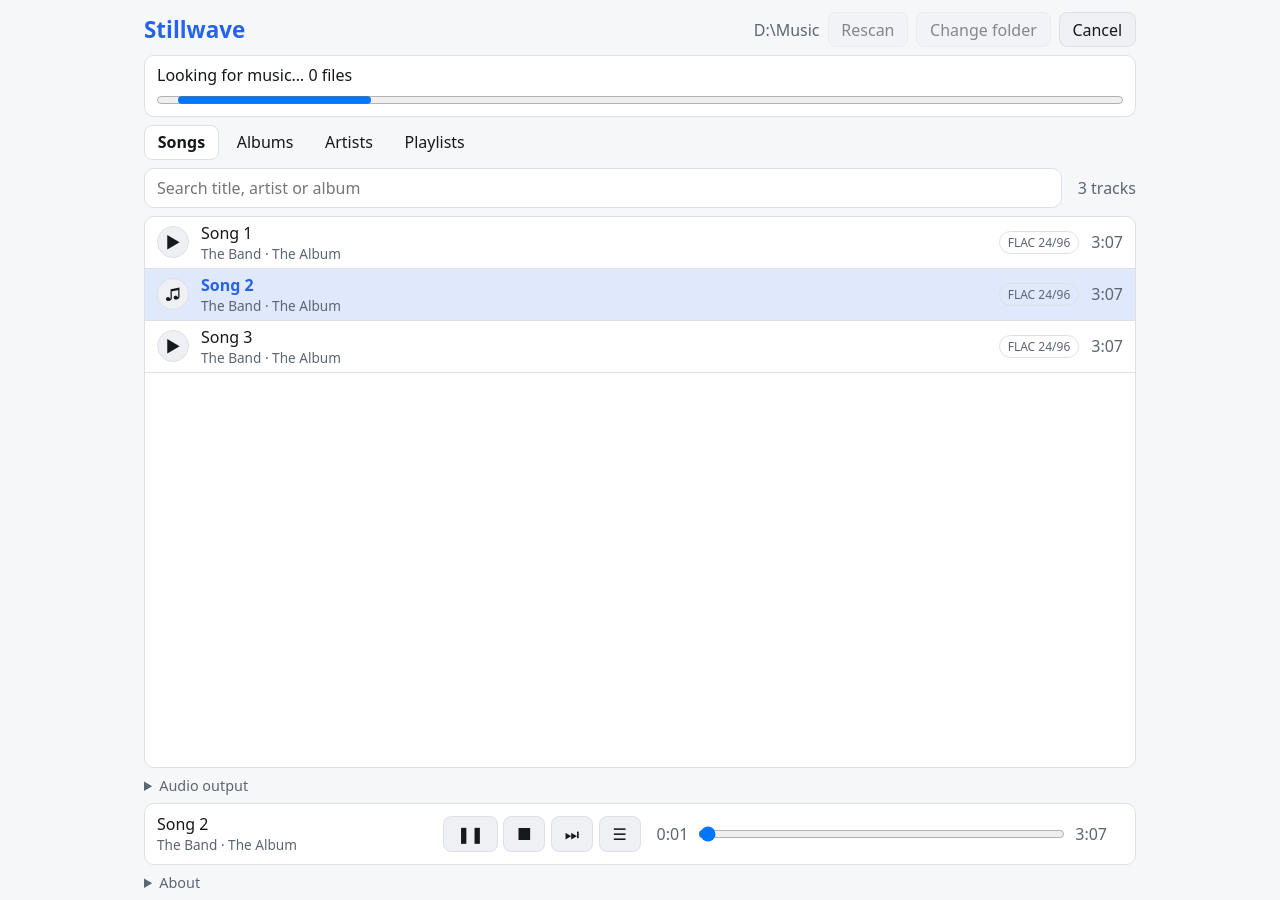
Test: browsing › highlights the song being heard in the list and on its album
Expected: the button named "Play Song 2" reads "♫", 157,278 -> 189,310
Click the tab "Albums" at (265, 142), box 223,125 -> 307,160
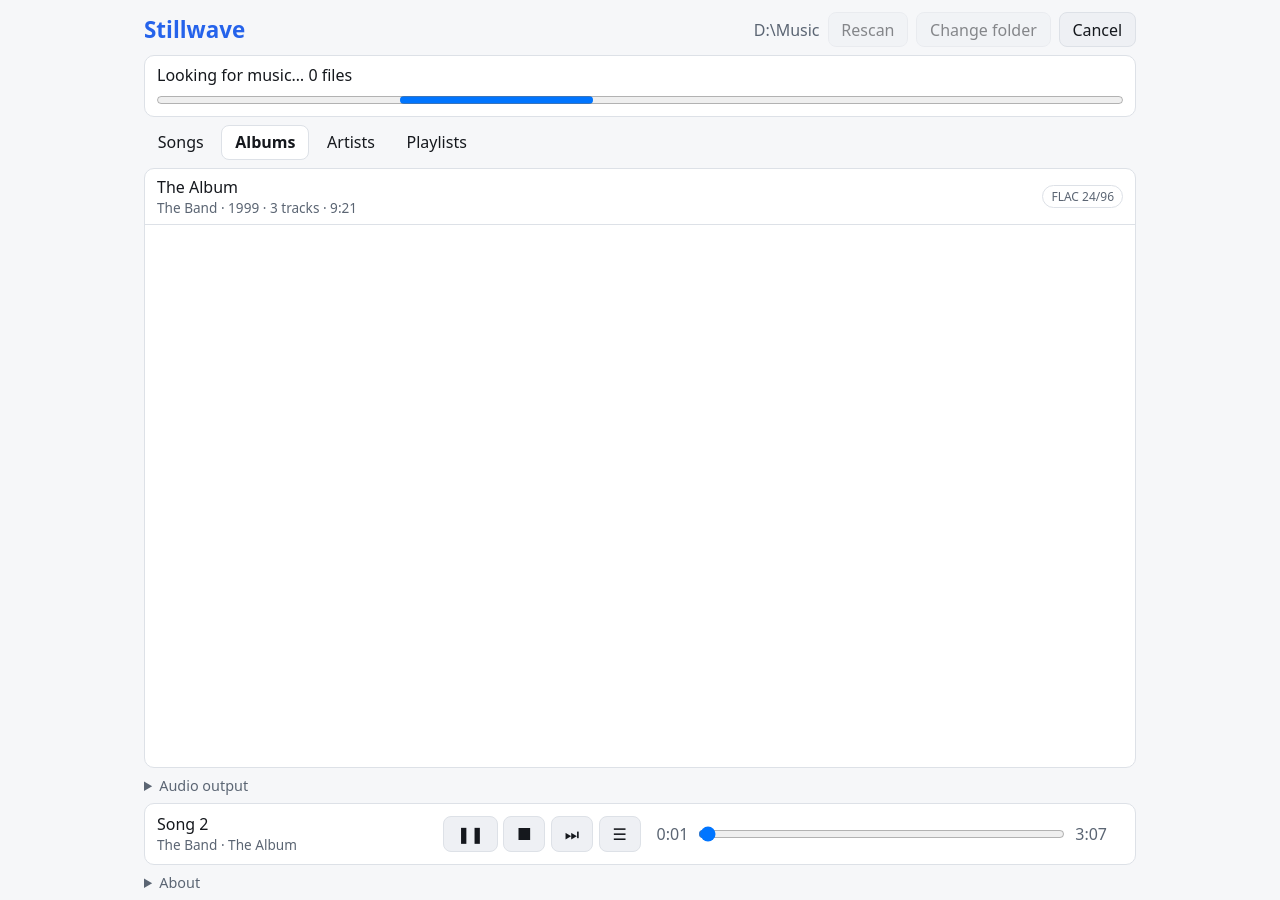
Click the text "The Album" at (198, 187), box 157,176 -> 238,198
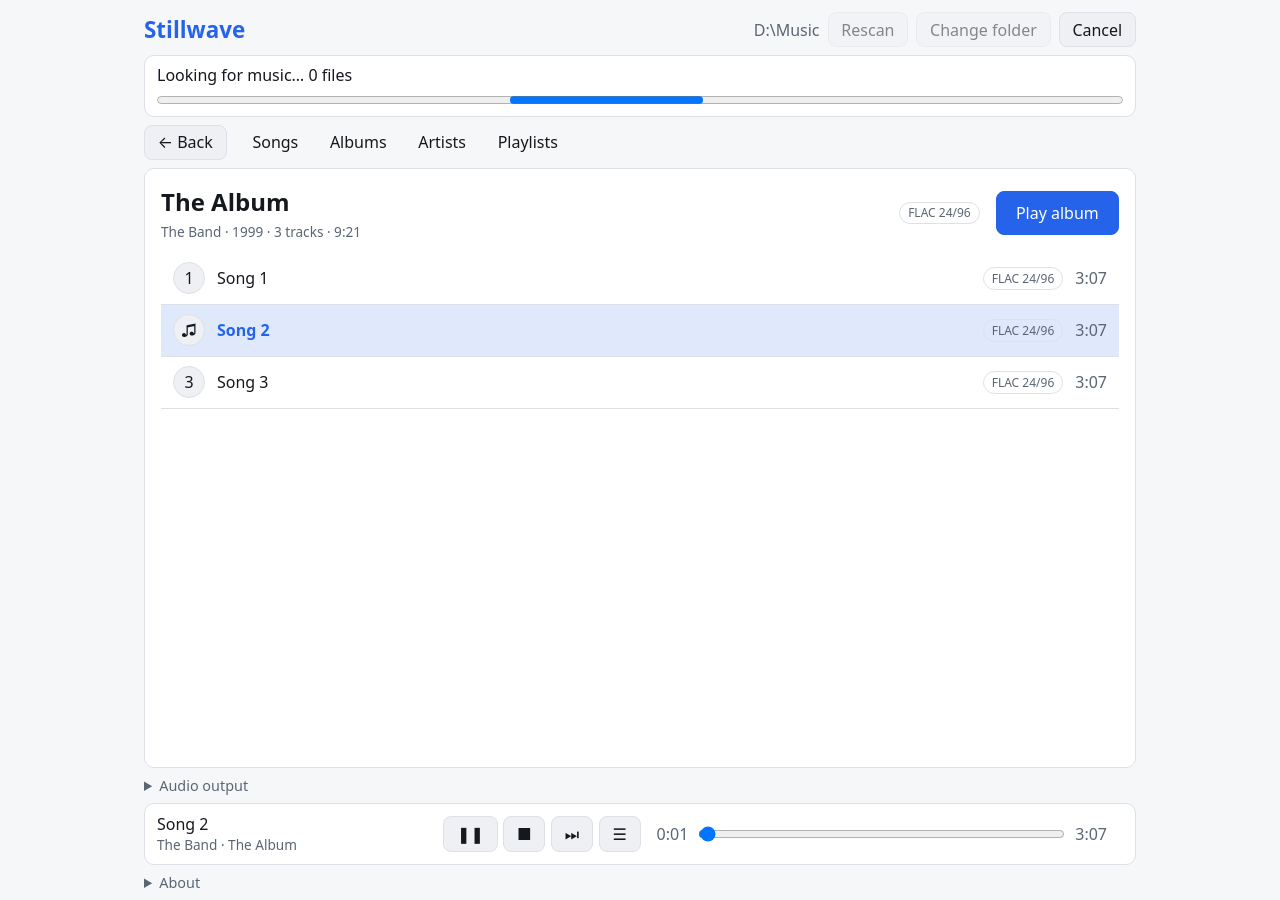
Result: the button named "Play Song 2" reads "♫" at 173,314 -> 205,346
Result: the button named "Play Song 1" reads "1" at 173,262 -> 205,294
